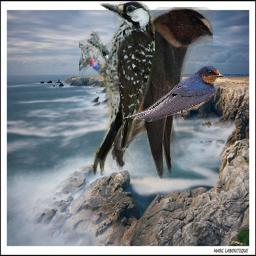Swallow: (108, 7, 213, 179), (123, 64, 225, 122)
Woodpecker: (79, 1, 155, 176)
